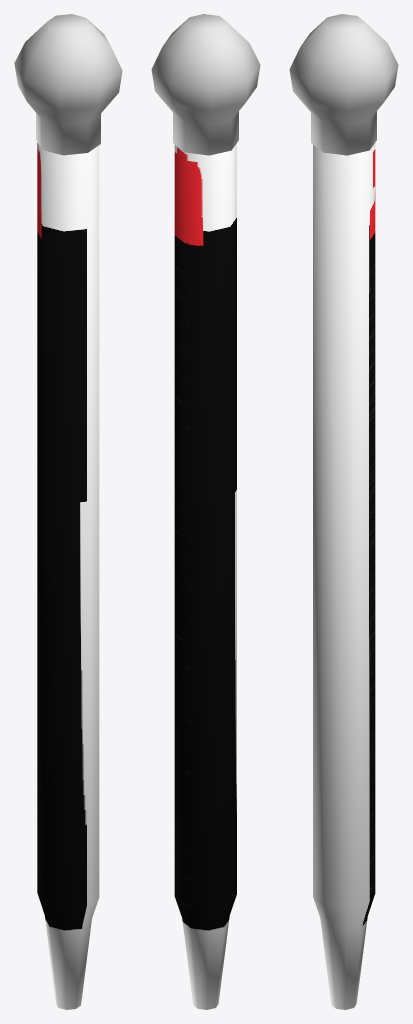
File: 25 ml Pipette.fbx
3 views of the same model, side by side, from view 1: azimuth 90°, elevation 25°; view 2: azimuth 150°, elevation 25°; view 3: azimuth 330°, elevation 25° (orthographic).
Visible parts, largest first — view 1: 25 ml Pipette; view 2: 25 ml Pipette; view 3: 25 ml Pipette.
Boxes of the visible parts, x1,y1,x2,y2 form: 25 ml Pipette: [14, 14, 122, 1009]; 25 ml Pipette: [151, 14, 260, 1009]; 25 ml Pipette: [289, 14, 398, 1009].
Size of the model in its own units: 2.21 by 22.11 by 2.21.
